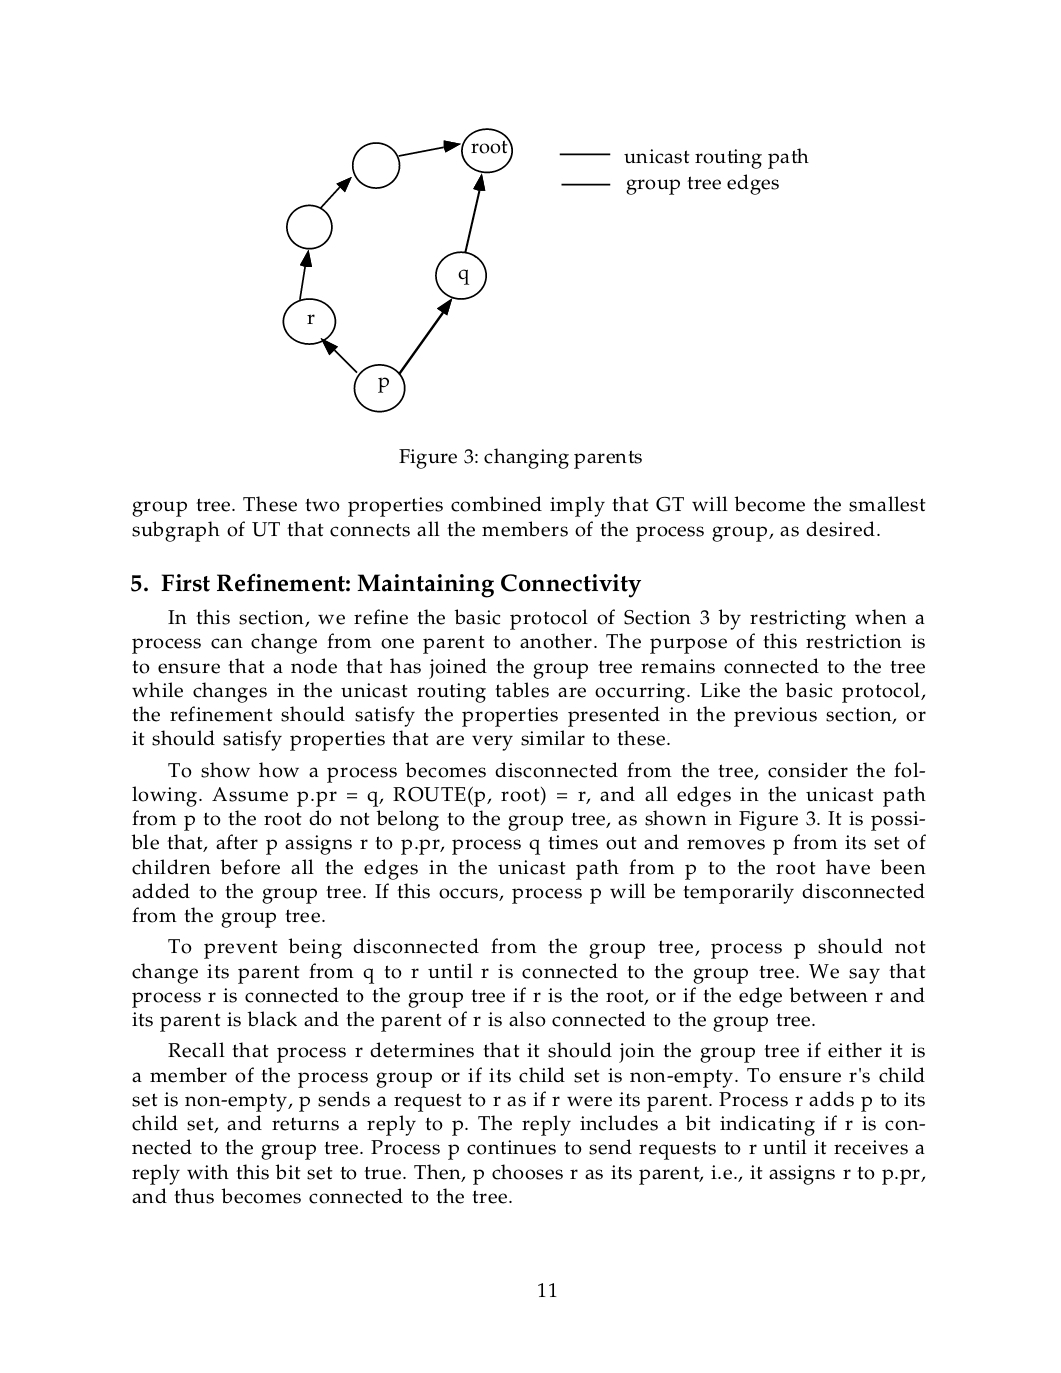figure: (282, 128, 512, 412)
